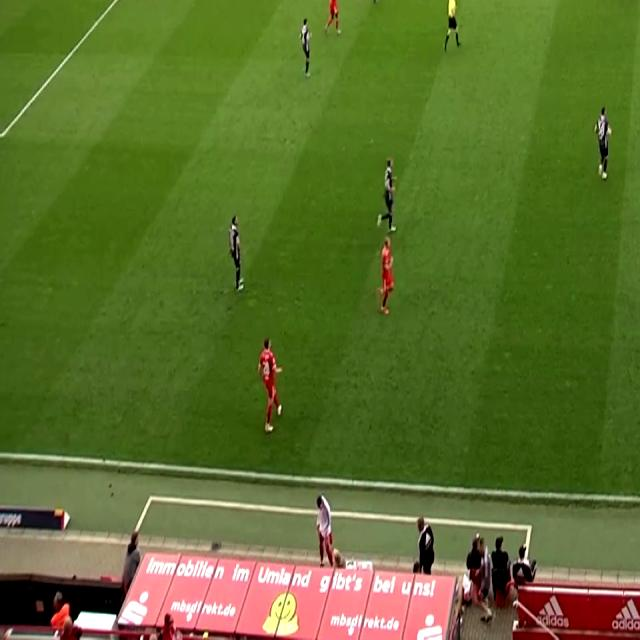referee: (439, 0, 465, 57)
soccer-player: (251, 332, 294, 439), (368, 236, 401, 324), (220, 213, 253, 299), (586, 102, 620, 185), (372, 148, 402, 236), (294, 15, 318, 80), (322, 0, 348, 40), (363, 0, 387, 11), (609, 0, 639, 5)
